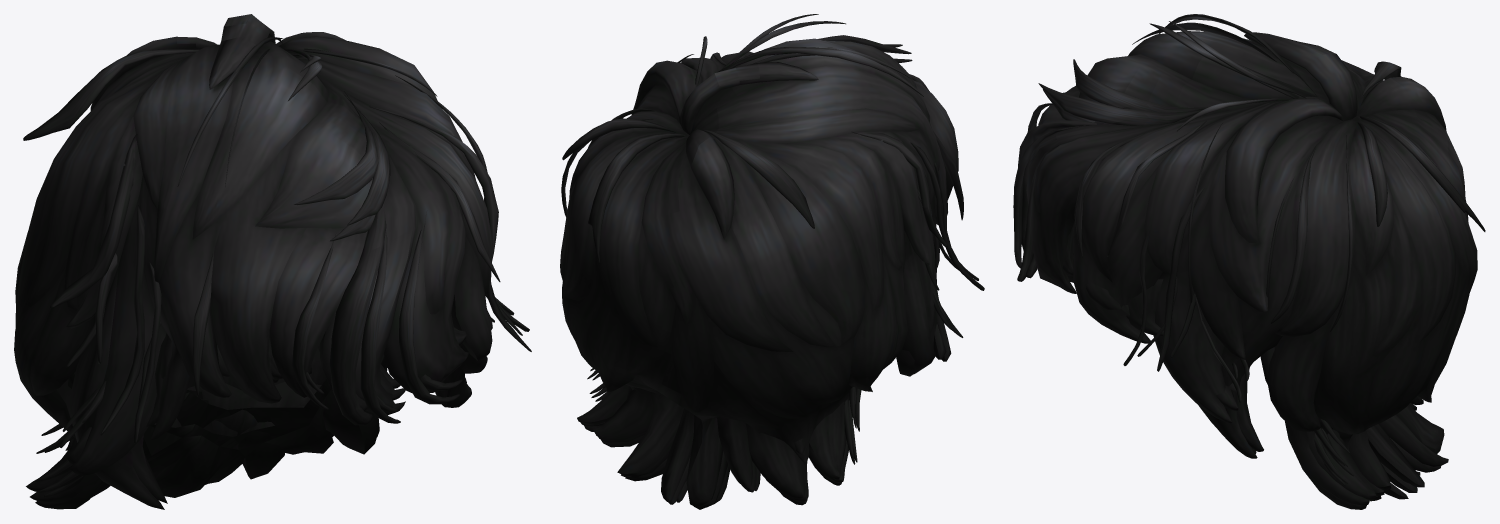
File: hair4.glb
3 views of the same model, side by side, from view 1: azimuth 30°, elevation 25°; view 2: azimuth 150°, elevation 25°; view 3: azimuth 270°, elevation 25° (orthographic). The views are drawn at different scales.
Visible parts, largest first — view 1: s4studio_mesh_2, s4studio_mesh_1, s4studio_mesh_3; view 2: s4studio_mesh_2, s4studio_mesh_3, s4studio_mesh_1; view 3: s4studio_mesh_2, s4studio_mesh_3, s4studio_mesh_1.
Boxes of the visible parts, x1=… form: s4studio_mesh_2: x1=14, y1=14, x2=531, y2=509; s4studio_mesh_1: x1=35, y1=310, x2=492, y2=509; s4studio_mesh_3: x1=26, y1=294, x2=522, y2=491; s4studio_mesh_2: x1=560, y1=14, x2=984, y2=509; s4studio_mesh_3: x1=577, y1=240, x2=959, y2=507; s4studio_mesh_1: x1=584, y1=373, x2=856, y2=507; s4studio_mesh_2: x1=1013, y1=14, x2=1485, y2=505; s4studio_mesh_3: x1=1023, y1=231, x2=1448, y2=499; s4studio_mesh_1: x1=1062, y1=221, x2=1420, y2=509.
Bounding box in the file's own units: 0.2125 × 0.2398 × 0.2299.
1 material, 1 textured.
